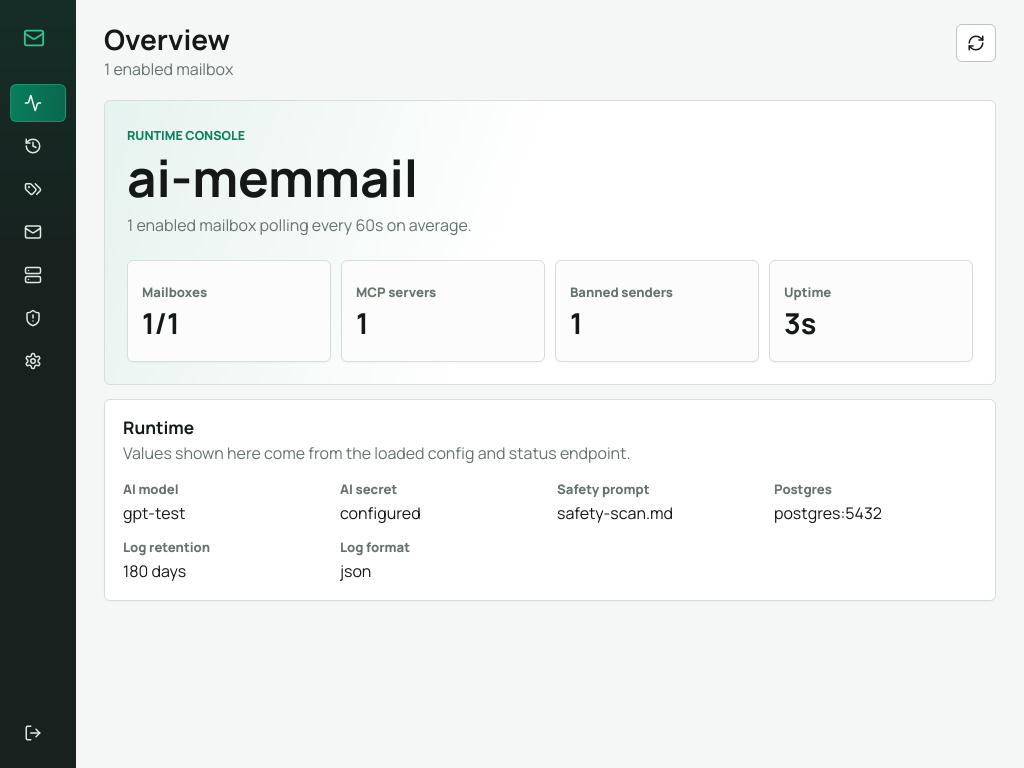
Test: App interaction guards › signs out immediately when there is no dirty config
Expected: the heading "Overview" is shown, 104,20 -> 230,58
Click the button "Sign out" at (38, 733), box 10,714 -> 66,752
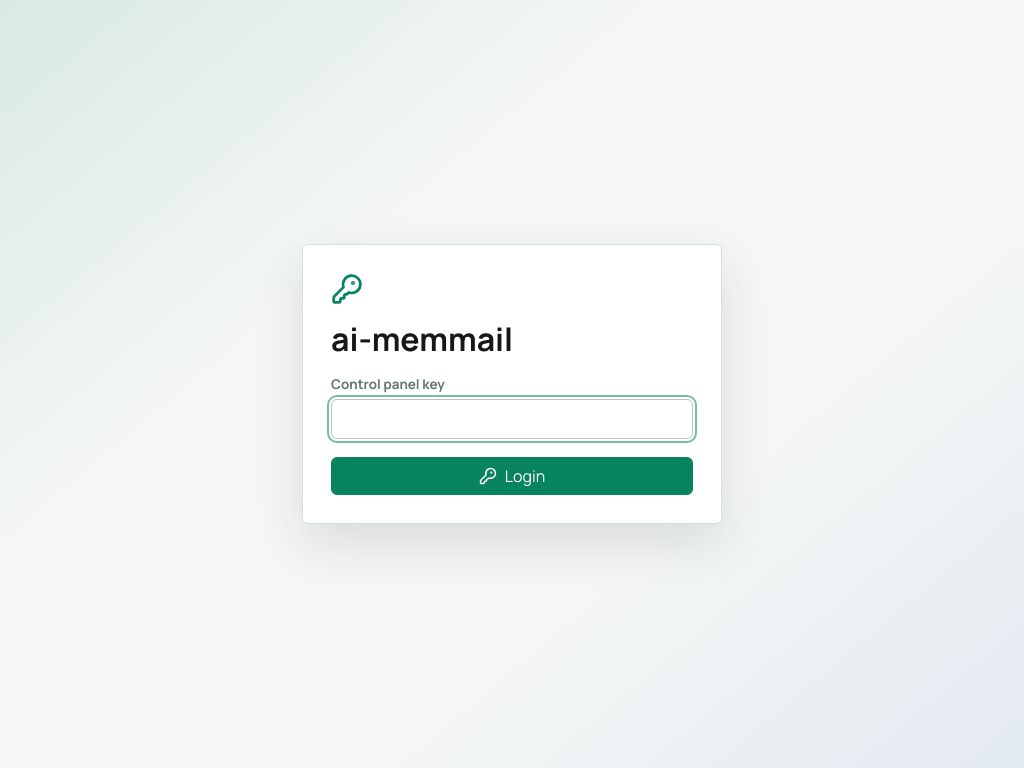
Expected: the password field labelled "Control panel key" is shown, 331,399 -> 693,439
